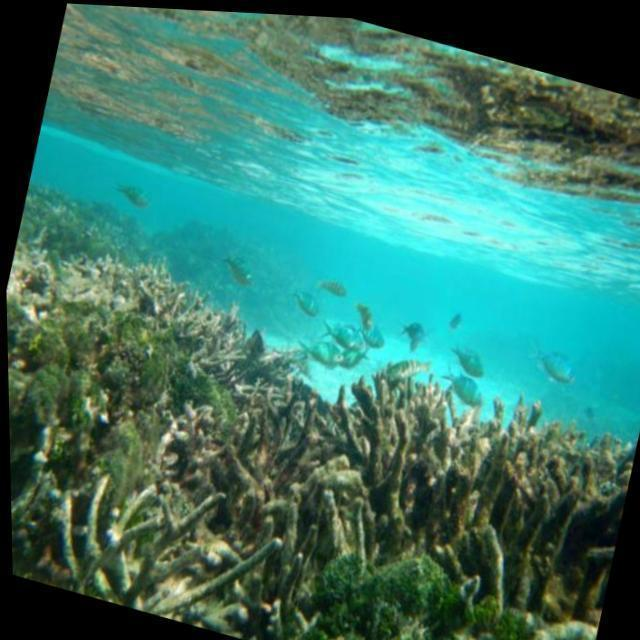Dead Coral: (310, 332, 640, 619), (136, 341, 333, 602)
